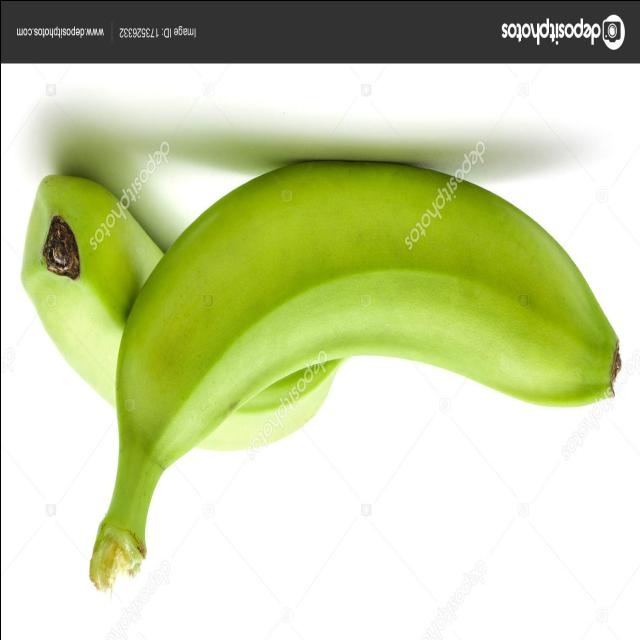agrume: (90, 157, 622, 591)
